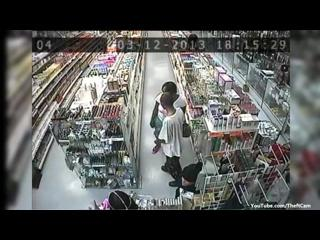Normal: (155, 92, 196, 183)
